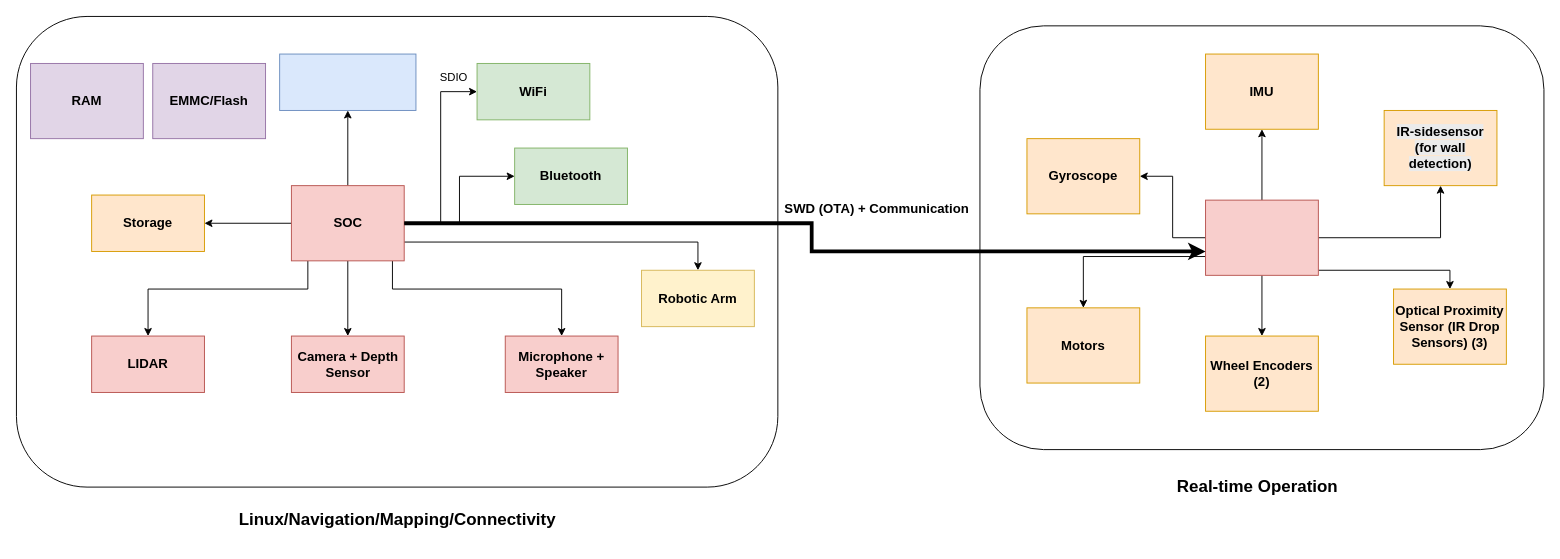
This 1560x559 diagram has some shape labels left out. Here are the shapes that lost their labels. From the top down, the box of each, then its label:
(279, 53, 416, 110): Debug Interfaces
(1205, 199, 1318, 275): MCU
